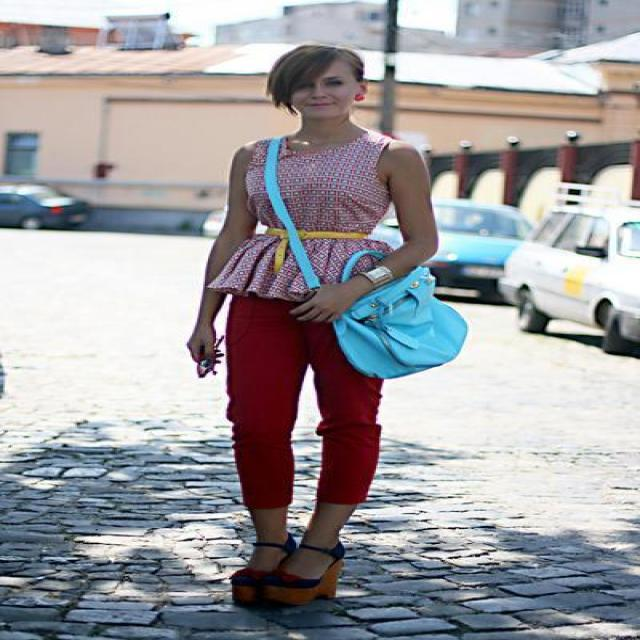bag: (247, 141, 466, 381)
pants: (211, 269, 381, 524)
shirt: (211, 115, 429, 299)
shoe: (229, 553, 363, 606)
